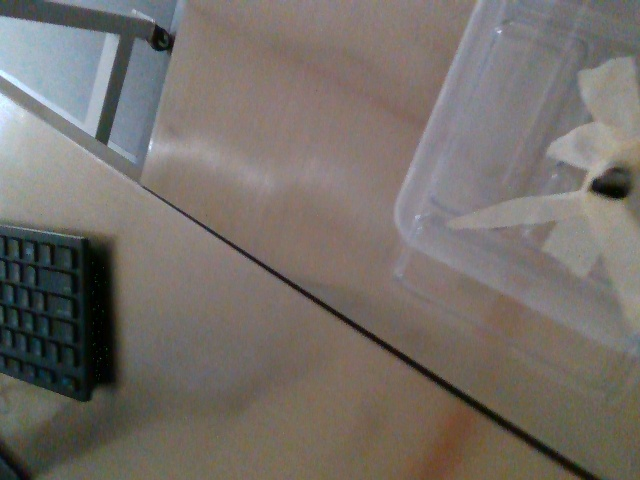test_strip: (587, 165, 628, 200)
